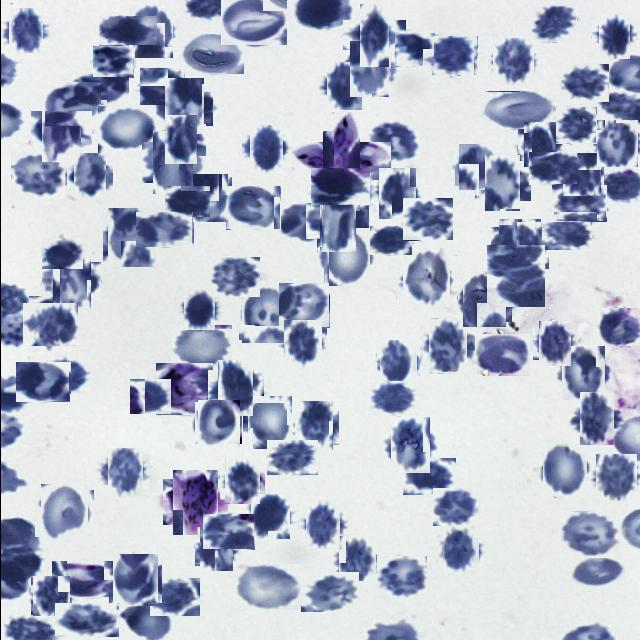difficult: (155, 363, 212, 415)
gametocyte: (166, 474, 222, 530)
red blood cell: (486, 245, 544, 307), (232, 564, 302, 610), (220, 0, 287, 46), (104, 210, 158, 264), (240, 288, 294, 342), (398, 252, 452, 306), (37, 487, 90, 540), (97, 106, 156, 153), (560, 511, 619, 558), (319, 231, 372, 283), (50, 561, 124, 598), (146, 136, 198, 188), (484, 91, 553, 130), (170, 325, 232, 368), (180, 34, 244, 75), (10, 152, 64, 199), (540, 446, 590, 496), (494, 223, 544, 273), (558, 348, 608, 398), (244, 398, 294, 448), (36, 106, 86, 156), (312, 196, 362, 246), (44, 82, 100, 126), (225, 186, 280, 230), (110, 556, 159, 605), (46, 256, 94, 306), (24, 300, 74, 348), (345, 45, 394, 93), (125, 8, 174, 56), (459, 276, 508, 324), (300, 572, 358, 612), (366, 120, 421, 162), (474, 334, 529, 376), (160, 82, 208, 130), (278, 283, 329, 328), (424, 322, 472, 369), (386, 422, 434, 469), (277, 202, 331, 243), (402, 198, 453, 241), (310, 168, 369, 205), (54, 603, 118, 637), (15, 362, 69, 402), (212, 365, 258, 411), (479, 160, 525, 206), (376, 556, 426, 598), (134, 212, 192, 248), (374, 170, 419, 216), (351, 12, 396, 58), (34, 357, 89, 394), (551, 185, 606, 222), (334, 538, 378, 584), (592, 456, 638, 500), (185, 175, 229, 220), (574, 396, 618, 441), (291, 403, 335, 448), (280, 322, 324, 367), (402, 458, 455, 495), (210, 257, 259, 297), (490, 40, 534, 84), (196, 401, 240, 445), (594, 121, 638, 165), (70, 73, 128, 106), (149, 578, 199, 616), (202, 514, 254, 550), (541, 213, 591, 250), (431, 36, 477, 76), (98, 15, 157, 46), (560, 64, 608, 102), (104, 451, 146, 494), (266, 440, 317, 475), (244, 128, 286, 170), (323, 65, 365, 107), (302, 504, 344, 546), (248, 496, 290, 538), (456, 146, 498, 188), (432, 488, 478, 526), (139, 68, 184, 106), (561, 154, 602, 195), (440, 528, 480, 570), (531, 6, 576, 43), (369, 381, 416, 416), (377, 342, 418, 382), (528, 152, 577, 185), (222, 462, 262, 502), (160, 120, 200, 160), (5, 11, 45, 51), (594, 16, 633, 56), (598, 308, 639, 346), (520, 125, 559, 164), (535, 324, 574, 363), (31, 577, 70, 616), (164, 185, 210, 218), (555, 107, 596, 144), (571, 558, 625, 586), (129, 379, 171, 415), (70, 157, 108, 196), (197, 530, 236, 568), (394, 33, 434, 67), (41, 236, 82, 268), (92, 46, 133, 78), (181, 292, 217, 328), (369, 226, 411, 255)
trophozoite: (306, 127, 374, 195)
